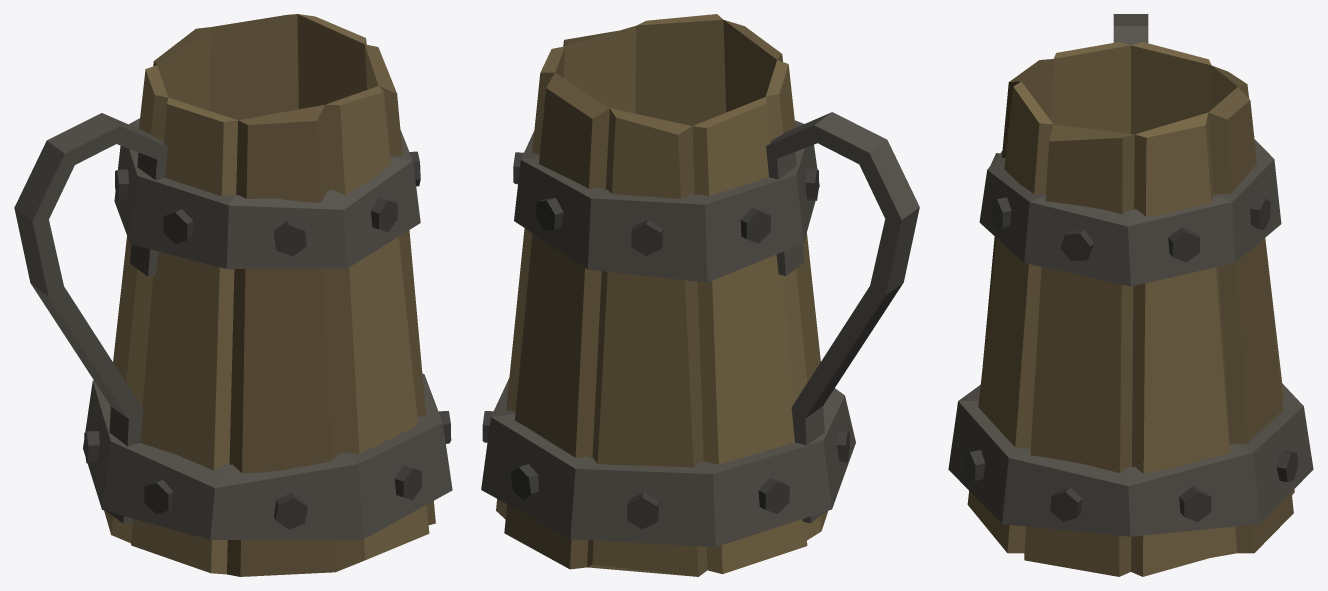
The model's file is Cup_2.fbx.
The picture shows the model from 3 angles, left to right: view 1: azimuth 30°, elevation 25°; view 2: azimuth 150°, elevation 25°; view 3: azimuth 270°, elevation 25°; orthographic projection. The views are drawn at different scales.
Parts seen in each view (by area): view 1: Cup_2; view 2: Cup_2; view 3: Cup_2.
Part boxes in pixels (x1,y1,x2,y2): Cup_2: (14, 14, 452, 576); Cup_2: (481, 14, 919, 576); Cup_2: (948, 14, 1313, 576).
Size of the model in its own units: 22.12 by 23.23 by 17.94.
